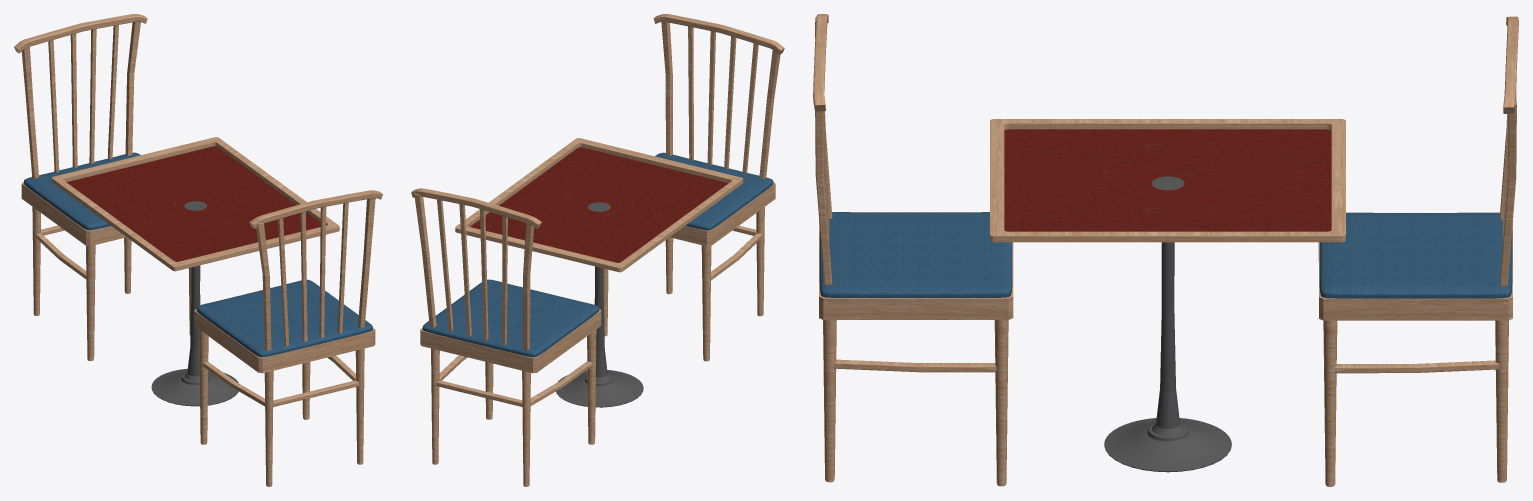
Rendered from food_court_set.glb.
3 renders of one model, left to right at view 1: azimuth 30°, elevation 25°; view 2: azimuth 150°, elevation 25°; view 3: azimuth 270°, elevation 25°, orthographic. The views are drawn at different scales.
Visible parts, largest first — view 1: Cylinder_1, Cylinder.001_0, Cylinder.002_2, Cylinder.003_3; view 2: Cylinder_1, Cylinder.002_2, Cylinder.001_0, Cylinder.003_3; view 3: Cylinder_1, Cylinder.001_0, Cylinder.002_2, Cylinder.003_3.
Part boxes in pixels (x1=…): Cylinder_1: x1=52, y1=137, x2=339, y2=271; Cylinder.001_0: x1=194, y1=190, x2=382, y2=486; Cylinder.002_2: x1=14, y1=14, x2=191, y2=361; Cylinder.003_3: x1=151, y1=201, x2=238, y2=406; Cylinder_1: x1=455, y1=138, x2=743, y2=272; Cylinder.002_2: x1=411, y1=188, x2=601, y2=486; Cylinder.001_0: x1=603, y1=14, x2=784, y2=361; Cylinder.003_3: x1=556, y1=202, x2=643, y2=407; Cylinder_1: x1=990, y1=119, x2=1345, y2=242; Cylinder.001_0: x1=813, y1=14, x2=1013, y2=486; Cylinder.002_2: x1=1318, y1=16, x2=1518, y2=486; Cylinder.003_3: x1=1104, y1=176, x2=1231, y2=472.
Bounding box in the file's own units: 0.8814 × 1.39 × 2.24.
4 materials, 3 textured.
